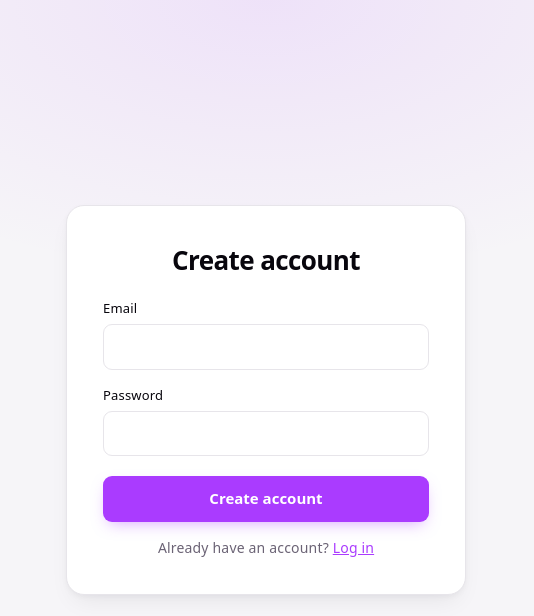
Test: Register › shows the confirmation screen with the email after success
This screenshot has width=534, height=616.
Step 1. Type "new@user.io" into the field labelled "Email" → (266, 347), box [103,324,429,370]
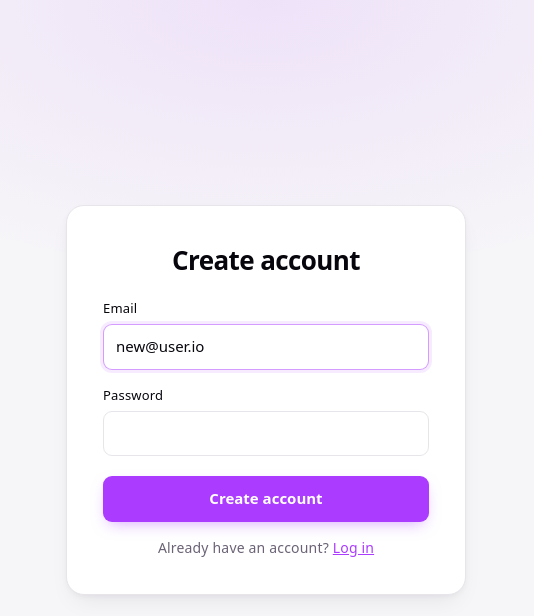
Step 2. Type "longenough1" into the password field labelled "Password" → (266, 434), box [103,411,429,456]
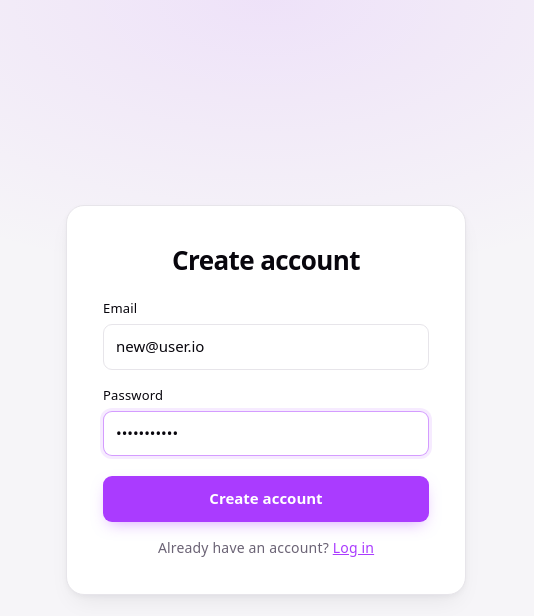
Step 3. Click the button "Create account" → (266, 499), box [103,476,429,522]
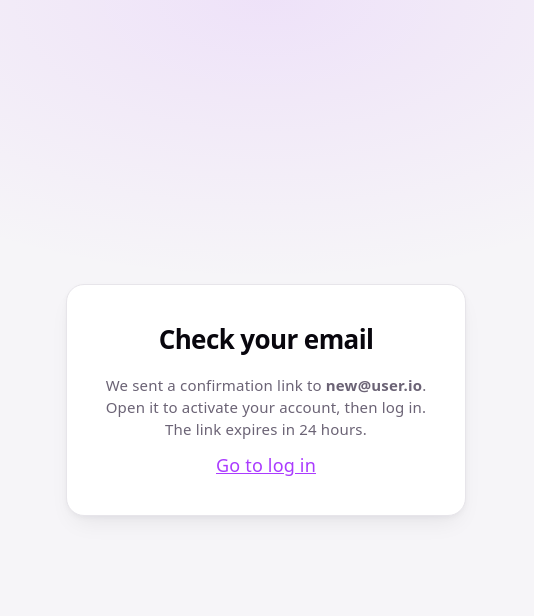
Result: the heading "Check your email" is shown at [159,322,373,359]
Result: the text "new@user.io" is shown at [326,375,422,395]
